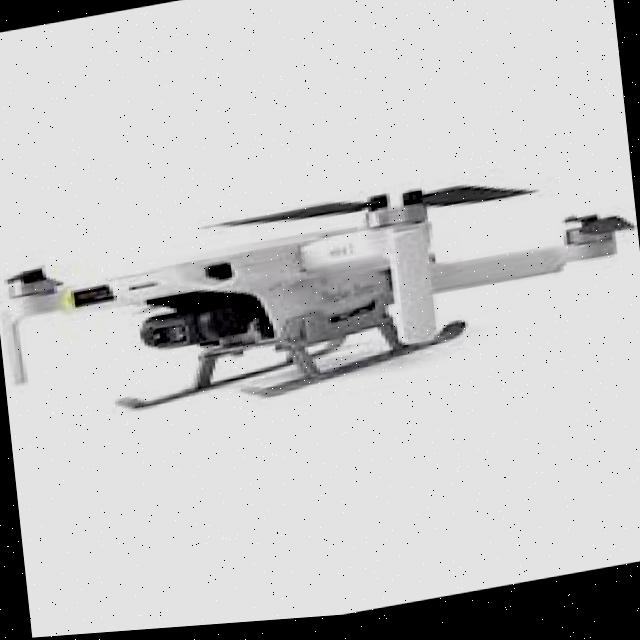drone: (0, 117, 640, 457)
